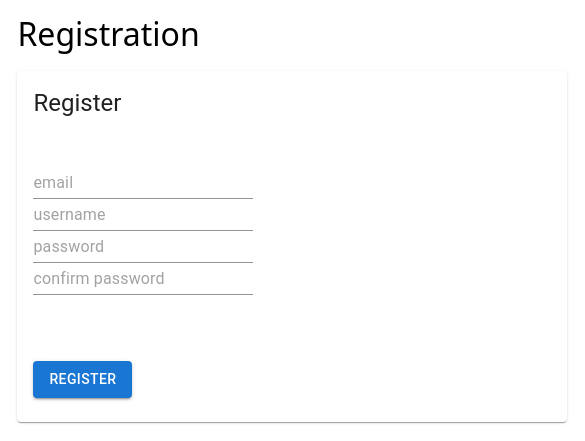
Test: displays the correct message when passwords dont match
In the field with placeholder "email": (143, 183) x1=33 y1=167 x2=253 y2=199, type "foo@gmail.com"
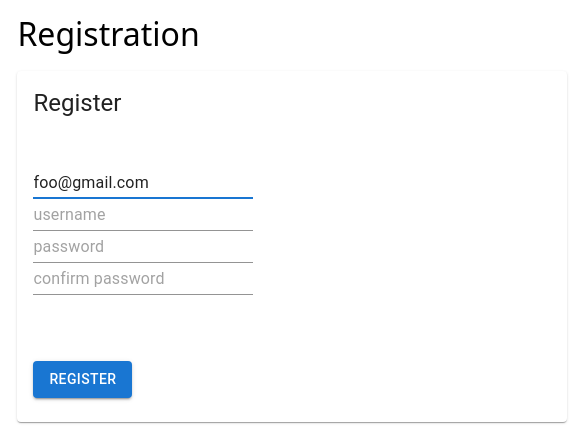
In the field with placeholder "username": (143, 215) x1=33 y1=199 x2=253 y2=231, type "b"
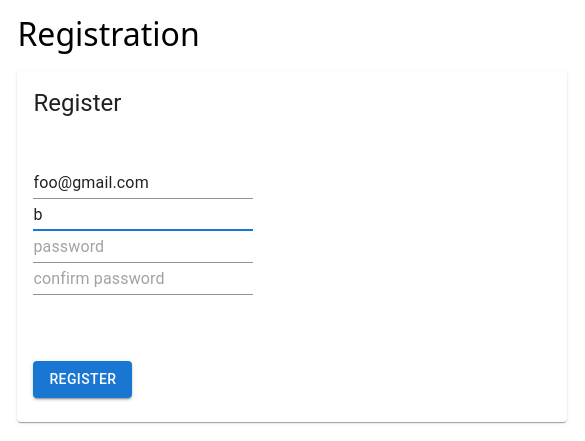
In the password field with placeholder "password": (143, 247) x1=33 y1=231 x2=253 y2=263, type "a"
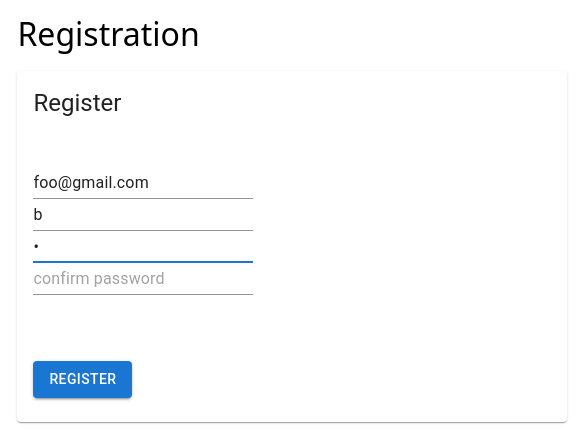
In the password field with placeholder "confirm password": (143, 279) x1=33 y1=263 x2=253 y2=295, type "b"
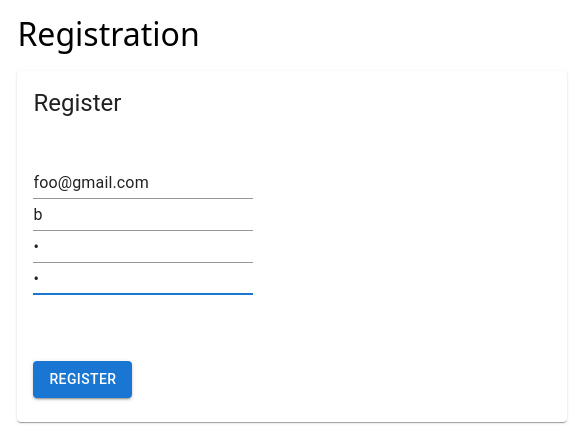
Click the button "register": (83, 379) x1=33 y1=361 x2=132 y2=398
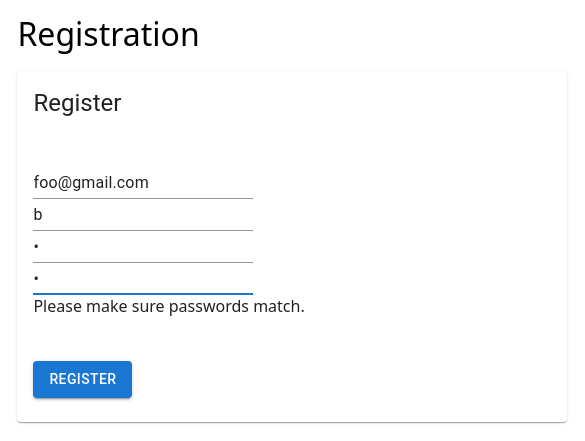
Expected: the text with test id "pass-message" reads "Please make sure passwords match.", x1=33 y1=295 x2=305 y2=317
